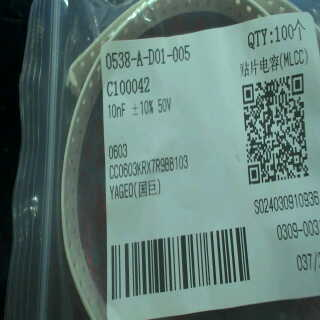10nF: (105, 102, 127, 121)
